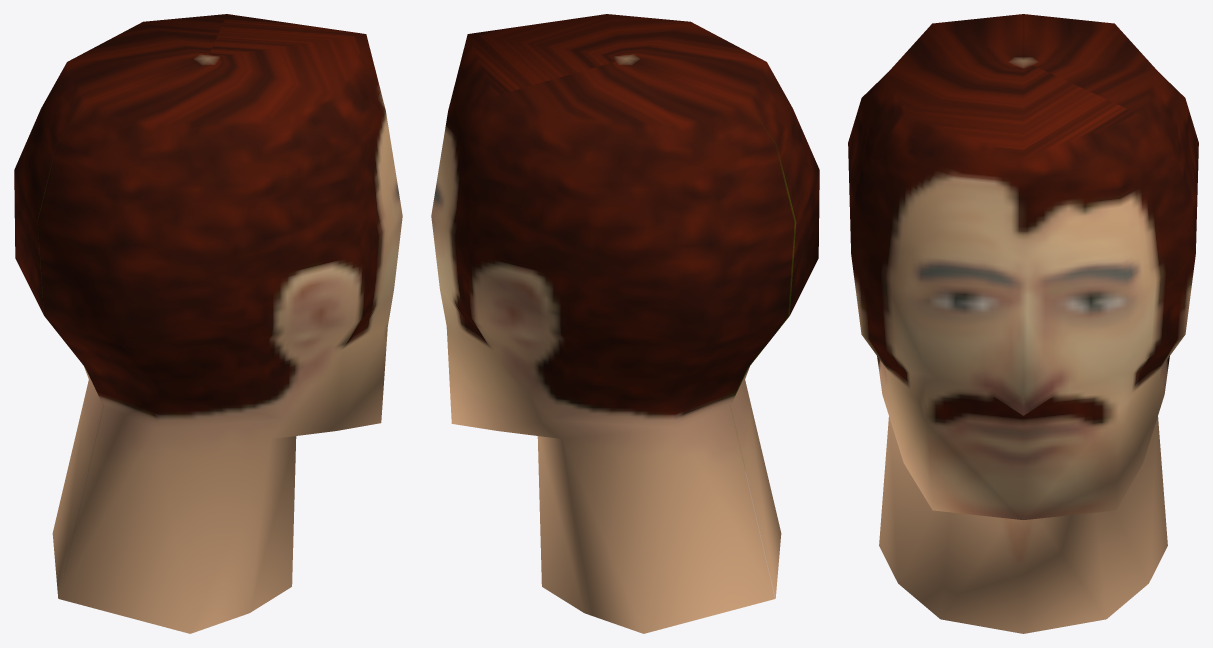
The model's file is human2h4.gltf.
3 views of the same model, side by side, from view 1: azimuth 30°, elevation 25°; view 2: azimuth 150°, elevation 25°; view 3: azimuth 270°, elevation 25° (orthographic). The views are drawn at different scales.
Visible parts, largest first — view 1: human2h4; view 2: human2h4; view 3: human2h4.
Part boxes in pixels (<box>): human2h4: <box>14,14,402,633</box>; human2h4: <box>431,14,819,633</box>; human2h4: <box>848,14,1198,633</box>.
Size of the model in its own units: 1.3 by 1.76 by 1.04.
